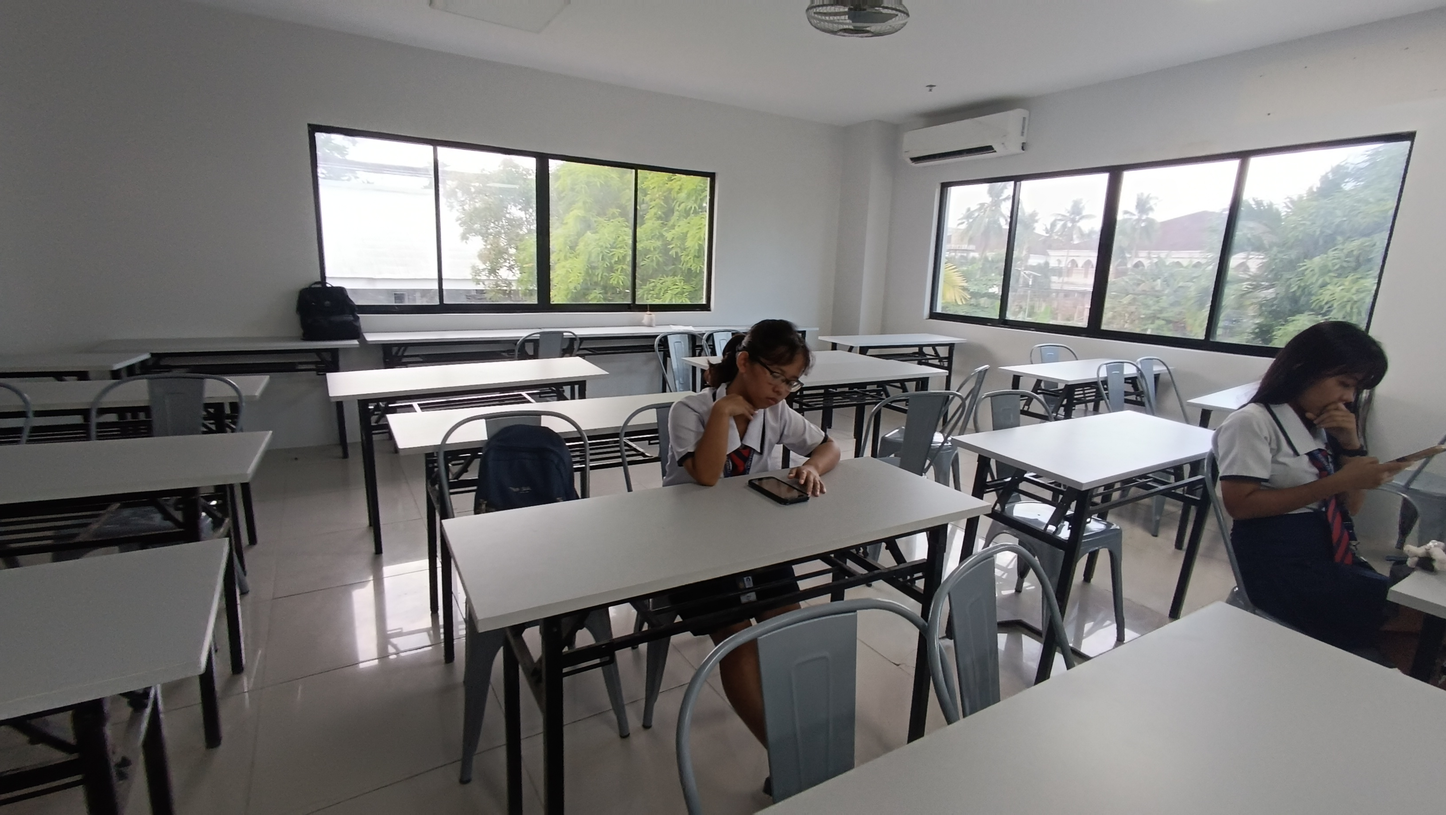with-student: (437, 315, 1000, 652), (1214, 319, 1446, 658)
